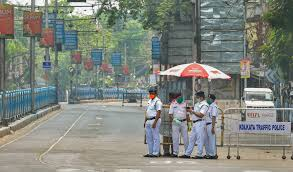mask: (146, 87, 156, 100), (205, 92, 215, 104), (167, 90, 176, 102), (194, 91, 203, 102), (175, 91, 183, 103)
